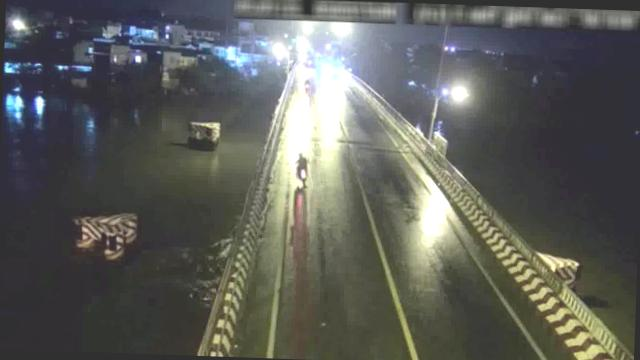Bike: (294, 150, 312, 190), (305, 75, 312, 92)
